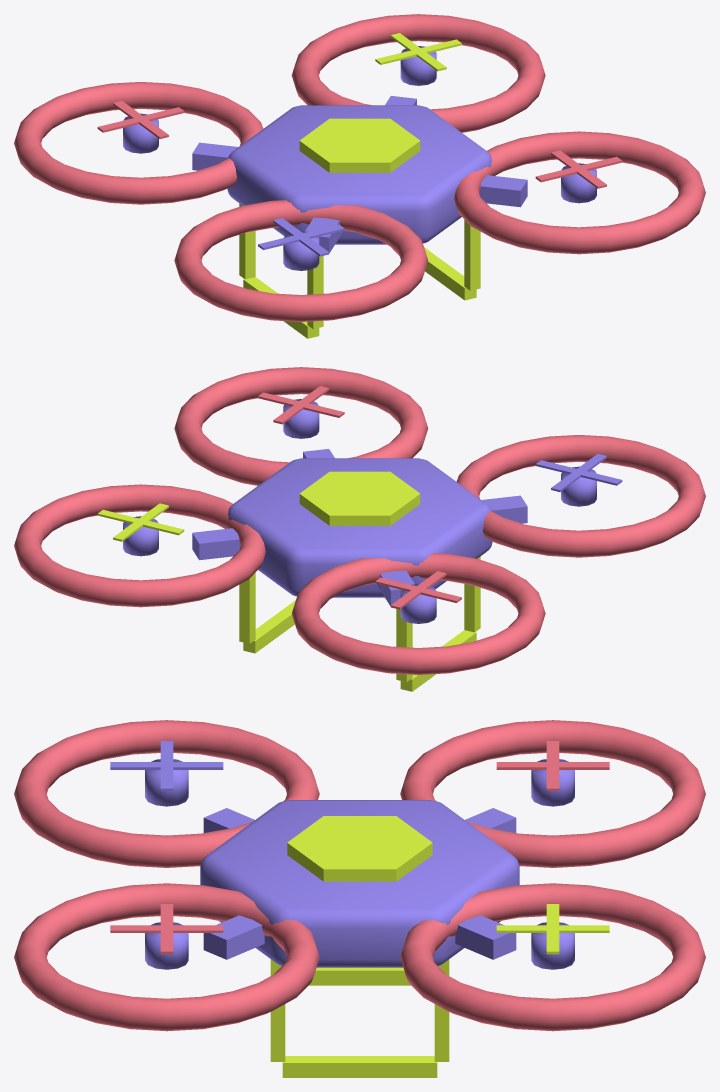
Rendered from drone.glb.
The picture shows the model from 3 angles, top to bottom: view 1: azimuth 30°, elevation 25°; view 2: azimuth 150°, elevation 25°; view 3: azimuth 270°, elevation 25°; orthographic projection. The views are drawn at different scales.
Parts seen in each view (by area): view 1: Body, GuardRing_3, GuardRing_2, GuardRing_1, GuardRing_0, CenterPanel, Arm_3, Propeller_0, Propeller_2, Propeller_3, Propeller_1, Strut_0_1 (+10 smaller); view 2: Body, GuardRing_0, GuardRing_1, GuardRing_2, GuardRing_3, CenterPanel, Arm_0, Propeller_1, Propeller_3, Propeller_0, Propeller_2, Strut_0_0 (+10 smaller); view 3: Body, GuardRing_0, GuardRing_3, GuardRing_1, GuardRing_2, CenterPanel, SkidRail_0, Arm_0, Arm_3, SkidRail_1, Propeller_0, Propeller_3 (+10 smaller).
Part boxes in pixels (x1,y1,x2,y2): Body: (227,105,491,244); GuardRing_3: (454,131,705,254); GuardRing_2: (174,200,428,321); GuardRing_1: (14,82,263,204); GuardRing_0: (291,14,545,132); CenterPanel: (299,118,420,172); Arm_3: (479,175,527,207); Propeller_0: (375,33,461,71); Propeller_2: (258,218,344,256); Propeller_3: (535,150,622,188); Propeller_1: (97,100,184,138); Strut_0_1: (464,219,480,290); Body: (228,458,492,597); GuardRing_0: (14,484,265,607); GuardRing_1: (291,553,545,674); GuardRing_2: (456,435,705,557); GuardRing_3: (174,367,428,485); CenterPanel: (299,471,420,525); Arm_0: (192,528,240,560); Propeller_1: (375,571,461,609); Propeller_3: (258,386,344,424); Propeller_0: (97,503,184,541); Propeller_2: (535,453,622,491); Strut_0_0: (239,572,255,643); Body: (200,800,519,967); GuardRing_0: (400,883,705,1031); GuardRing_3: (14,883,319,1031); GuardRing_1: (400,720,705,867); GuardRing_2: (14,720,319,867); CenterPanel: (287,816,432,881); SkidRail_0: (282,1056,437,1077); Arm_0: (455,915,516,959); Arm_3: (203,915,264,959); SkidRail_1: (309,967,410,985); Propeller_0: (496,904,609,954); Propeller_3: (110,904,223,954).
Size of the model in its own units: 3.8 by 1.12 by 3.8.
